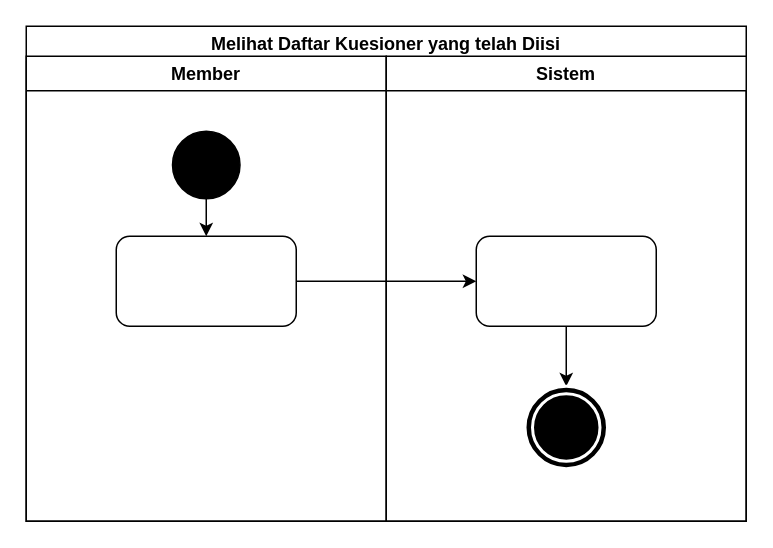
Some shapes in this 773 by 548 pixel diagram are drawn without their labels. The centre of each missing label's shape, as x and y in pixels:
Membuka halaman dashboard: point 205,280
Menampilkan halaman dashboard: point 565,280
